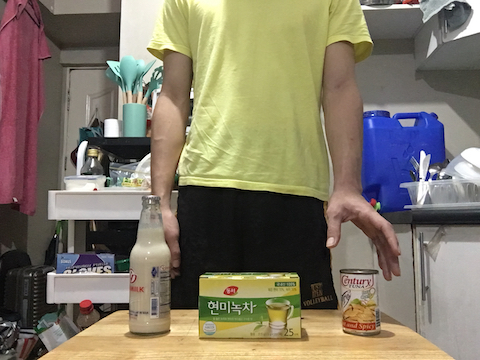bottle: (125, 192, 176, 337)
box: (195, 271, 309, 344)
can: (334, 264, 383, 342)
